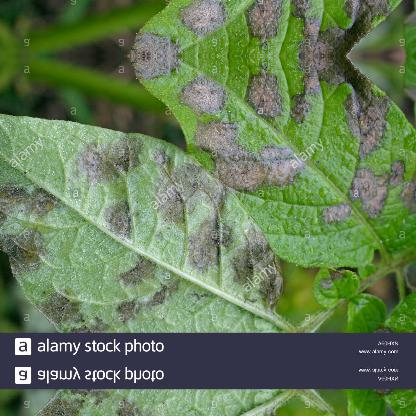Early-Blight: (1, 107, 297, 331), (121, 55, 415, 271), (121, 0, 415, 55)
